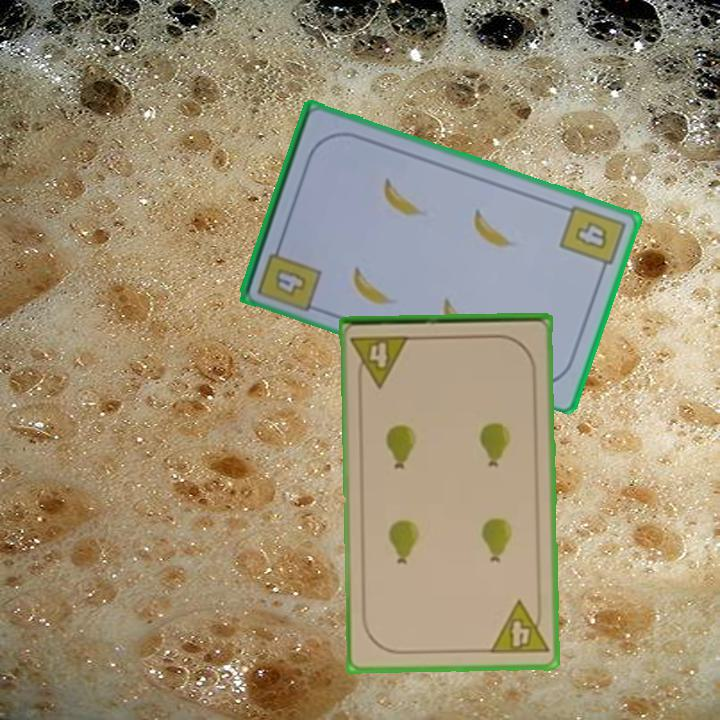4b: (556, 201, 628, 278), (254, 237, 324, 315)
4p: (486, 597, 551, 658), (348, 332, 413, 390)
